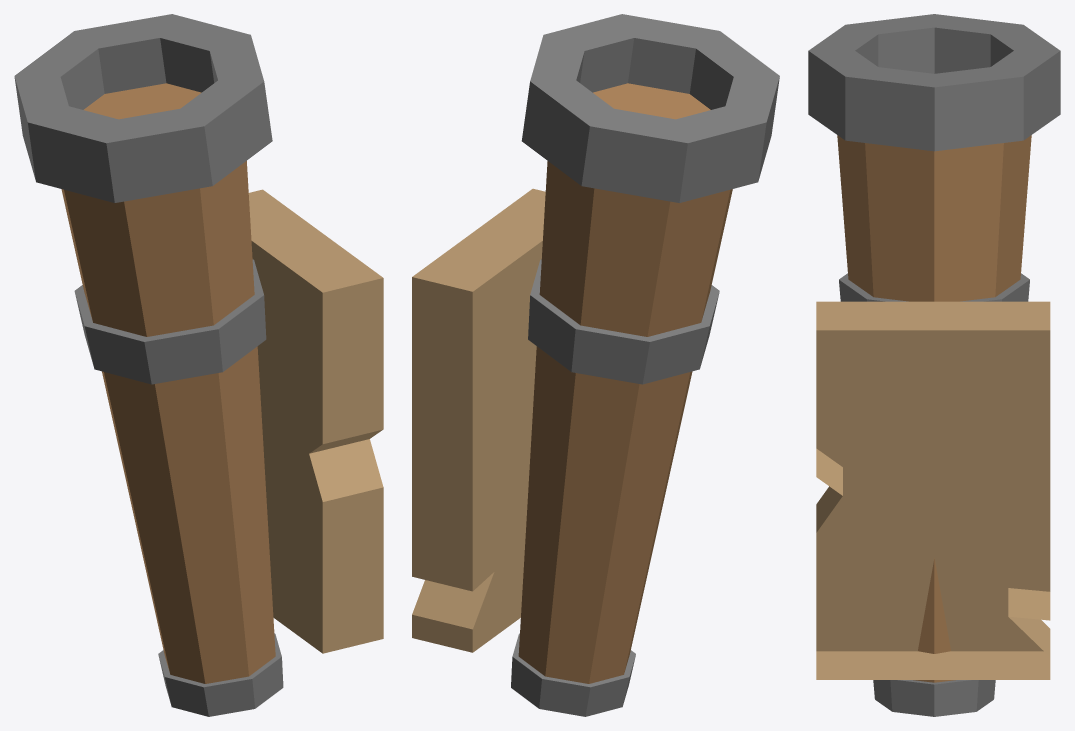
File: wall_torch.fbx
3 views of the same model, side by side, from view 1: azimuth 30°, elevation 25°; view 2: azimuth 150°, elevation 25°; view 3: azimuth 270°, elevation 25° (orthographic). The views are drawn at different scales.
Parts seen in each view (by area): view 1: wall_torch; view 2: wall_torch; view 3: wall_torch.
Part boxes in pixels (<box>): wall_torch: <box>14,14,383,716</box>; wall_torch: <box>412,14,779,716</box>; wall_torch: <box>808,14,1060,716</box>.
Size of the model in its own units: 46.45 by 98.3 by 35.52.
